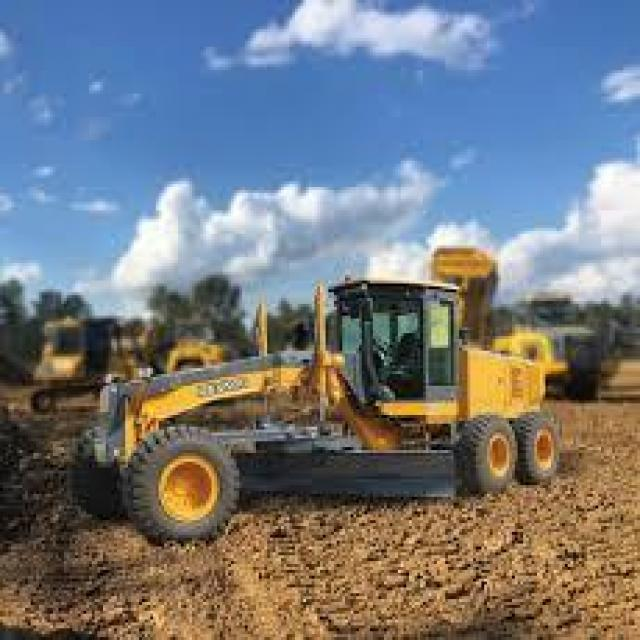Grader: (58, 257, 590, 564)
